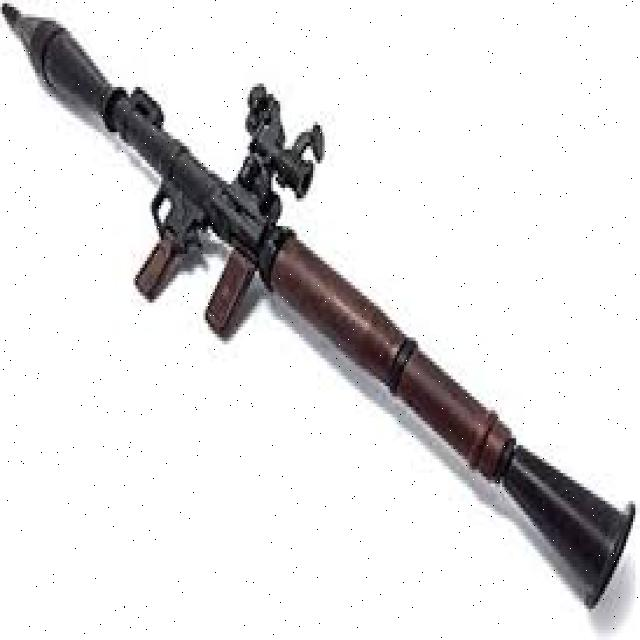bazooka: (1, 1, 640, 620)
